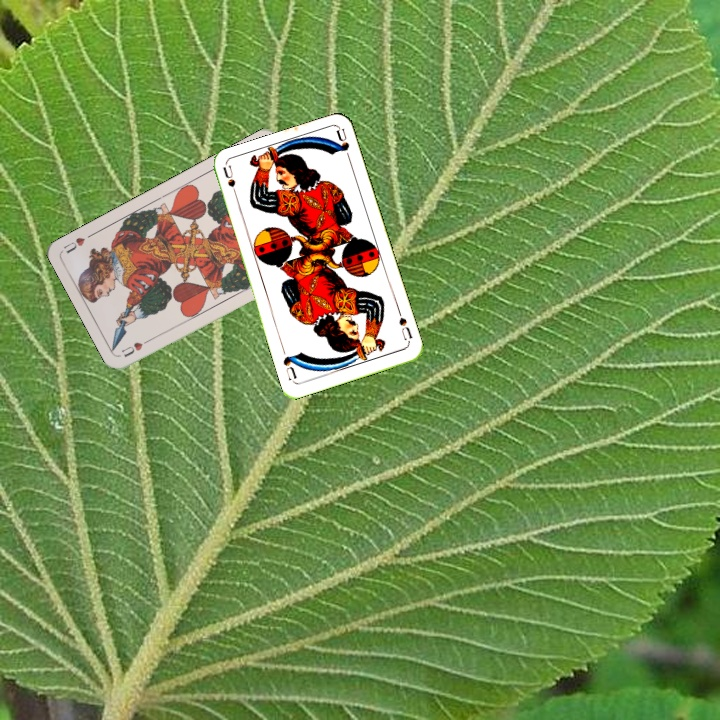HU: (117, 334, 155, 360)
SU: (219, 162, 241, 203), (394, 306, 415, 346)
